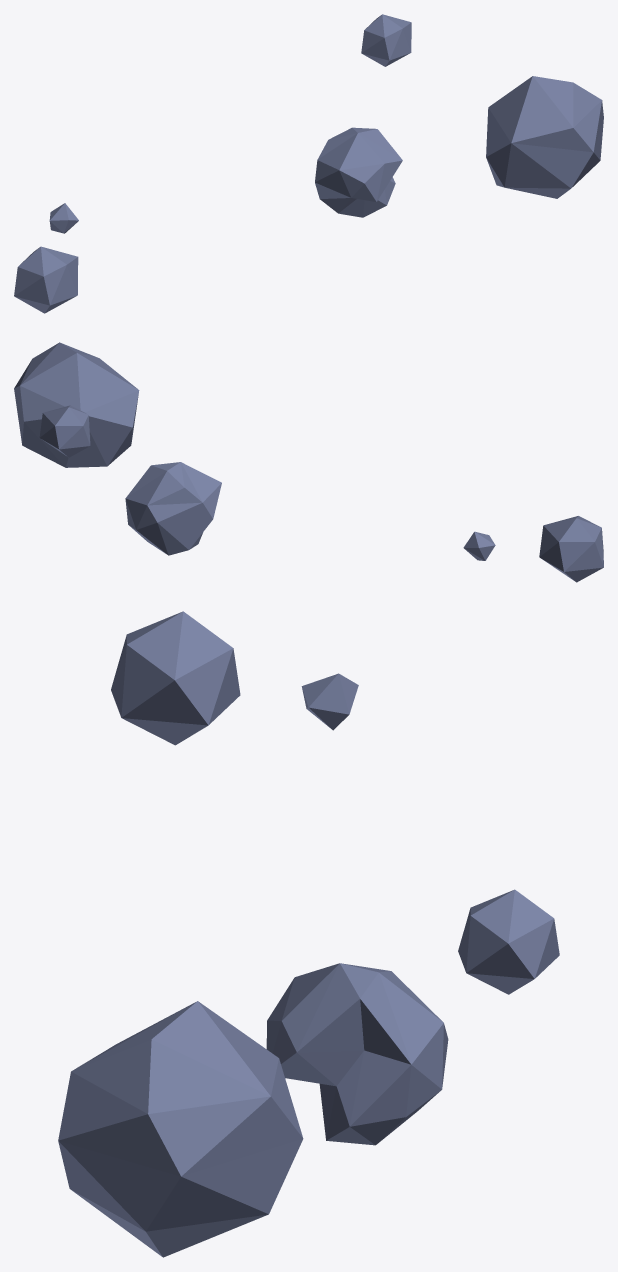
File: island3_basestone.obj
3 renders of one model, top to bottom at view 1: azimuth 30°, elevation 25°; view 2: azimuth 150°, elevation 25°; view 3: azimuth 270°, elevation 25°, orthographic. The views are drawn at different scales.
Parts seen in each view (by area): view 1: Icosphere.000_Icosphere.011; view 2: Icosphere.000_Icosphere.011; view 3: Icosphere.000_Icosphere.011.
Part boxes in pixels (x1,y1,x2,y2): Icosphere.000_Icosphere.011: (14,14,603,313); Icosphere.000_Icosphere.011: (14,342,603,582); Icosphere.000_Icosphere.011: (58,611,559,1257).
Size of the model in its own units: 29.22 by 7.38 by 10.76.
